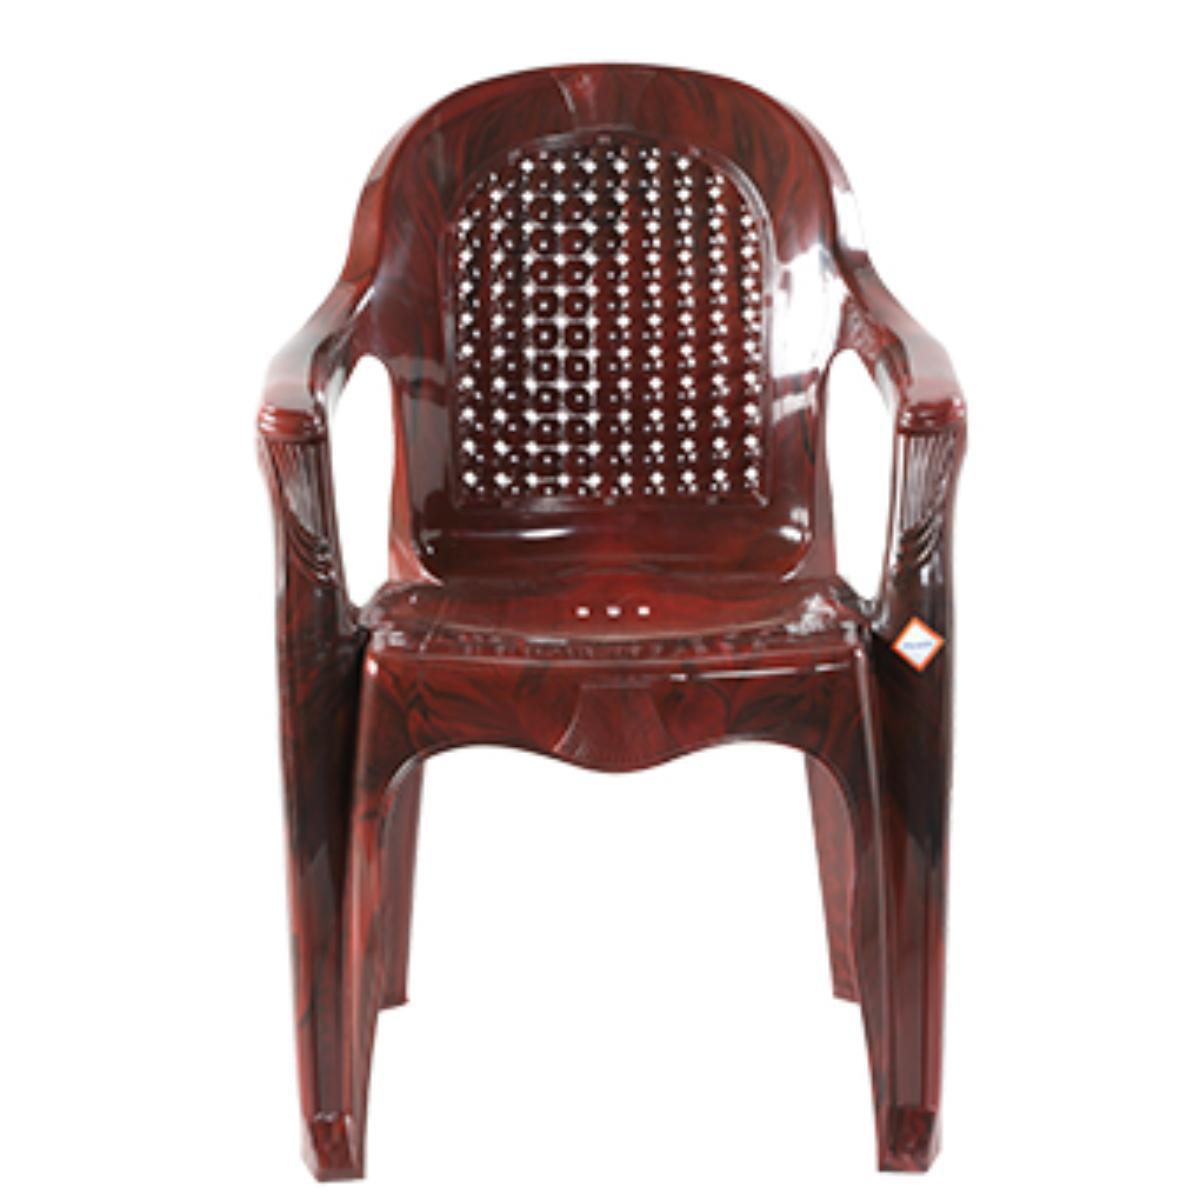Chair: (241, 59, 953, 1178)
